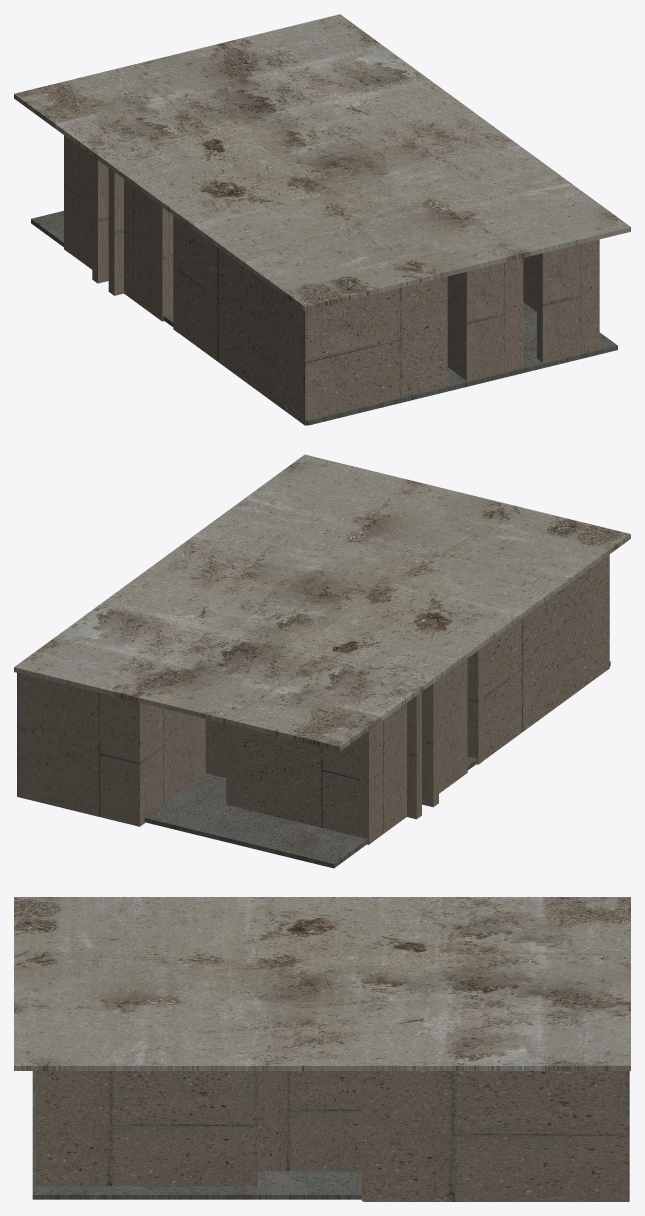
File: area2.dae
3 views of the same model, one above another, from view 1: azimuth 30°, elevation 25°; view 2: azimuth 150°, elevation 25°; view 3: azimuth 270°, elevation 25° (orthographic). The views are drawn at different scales.
Parts seen in each view (by area): view 1: ceiling; view 2: ceiling; view 3: ceiling.
Boxes of the visible parts, left/top/right/bottom form: ceiling: left=14, top=14, right=630, bottom=425; ceiling: left=14, top=454, right=630, bottom=868; ceiling: left=14, top=897, right=630, bottom=1201.
Size of the model in its own units: 154 by 238 by 58.36.
Materials: 35 (19 with a texture image).
